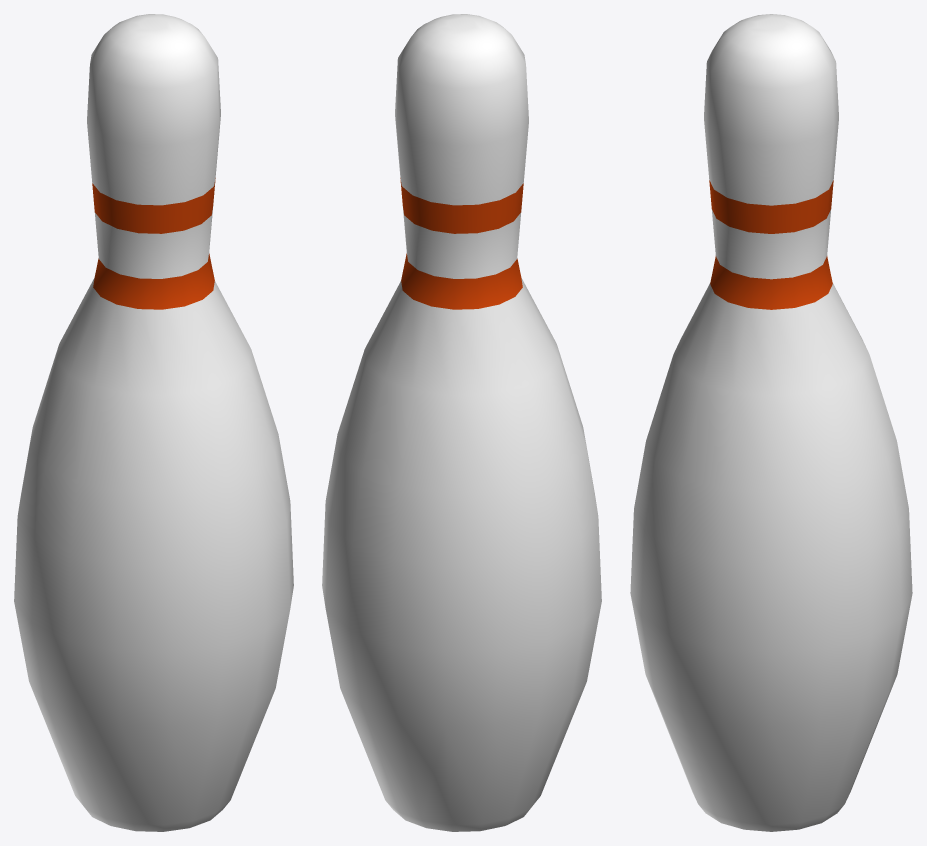
The model's file is Bowling Pin_1.fbx.
The picture shows the model from 3 angles, left to right: view 1: azimuth 30°, elevation 25°; view 2: azimuth 150°, elevation 25°; view 3: azimuth 270°, elevation 25°; orthographic projection.
Visible parts, largest first — view 1: Bowling Pin_1; view 2: Bowling Pin_1; view 3: Bowling Pin_1.
Part boxes in pixels (left/top/right/bottom): Bowling Pin_1: left=14, top=14, right=293, bottom=831; Bowling Pin_1: left=322, top=14, right=601, bottom=831; Bowling Pin_1: left=630, top=14, right=912, bottom=831.
Bounding box in the file's own units: 0.1008 × 0.3064 × 0.1008.
